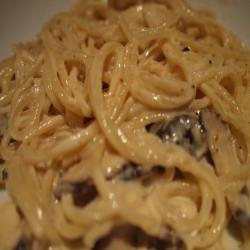carbonara: (8, 12, 244, 242)
